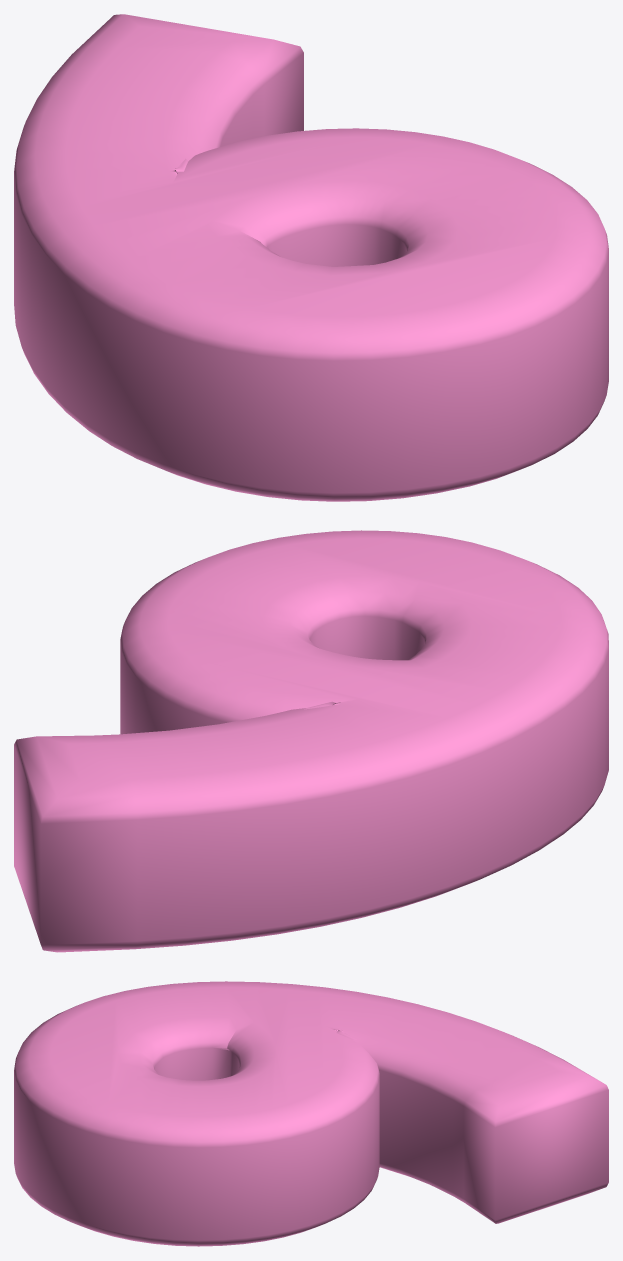
Rendered from ToyObject_207.fbx.
The picture shows the model from 3 angles, top to bottom: view 1: azimuth 30°, elevation 25°; view 2: azimuth 150°, elevation 25°; view 3: azimuth 270°, elevation 25°; orthographic projection. The views are drawn at different scales.
Visible parts, largest first — view 1: Object.008; view 2: Object.008; view 3: Object.008.
Boxes of the visible parts, x1=… form: Object.008: x1=14, y1=14, x2=608, y2=501; Object.008: x1=14, y1=530, x2=608, y2=952; Object.008: x1=14, y1=981, x2=608, y2=1246.
Size of the model in its own units: 0.0846 by 0.0304 by 0.1328.
